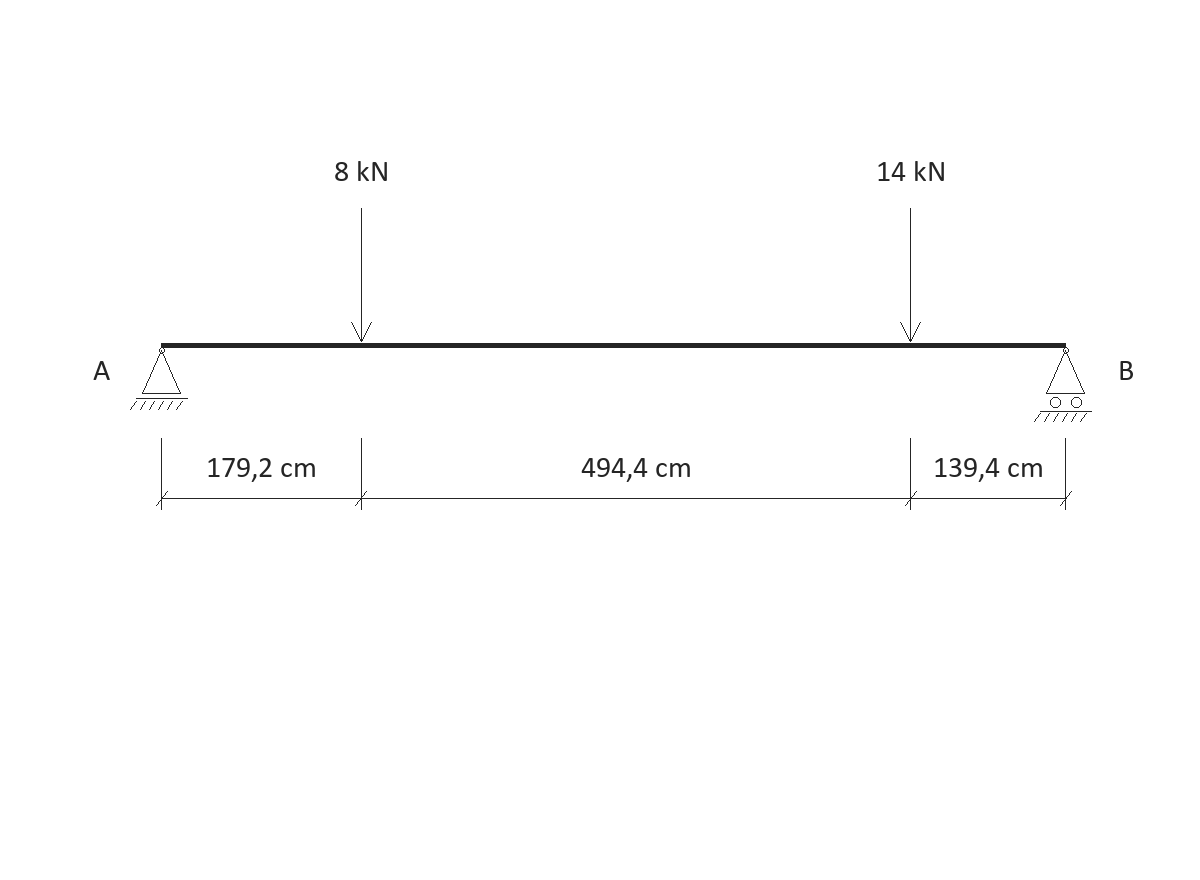pin_support: (130, 347, 188, 410)
point_load: (351, 208, 372, 342), (900, 208, 921, 342)
roller_support: (1034, 347, 1092, 422)
